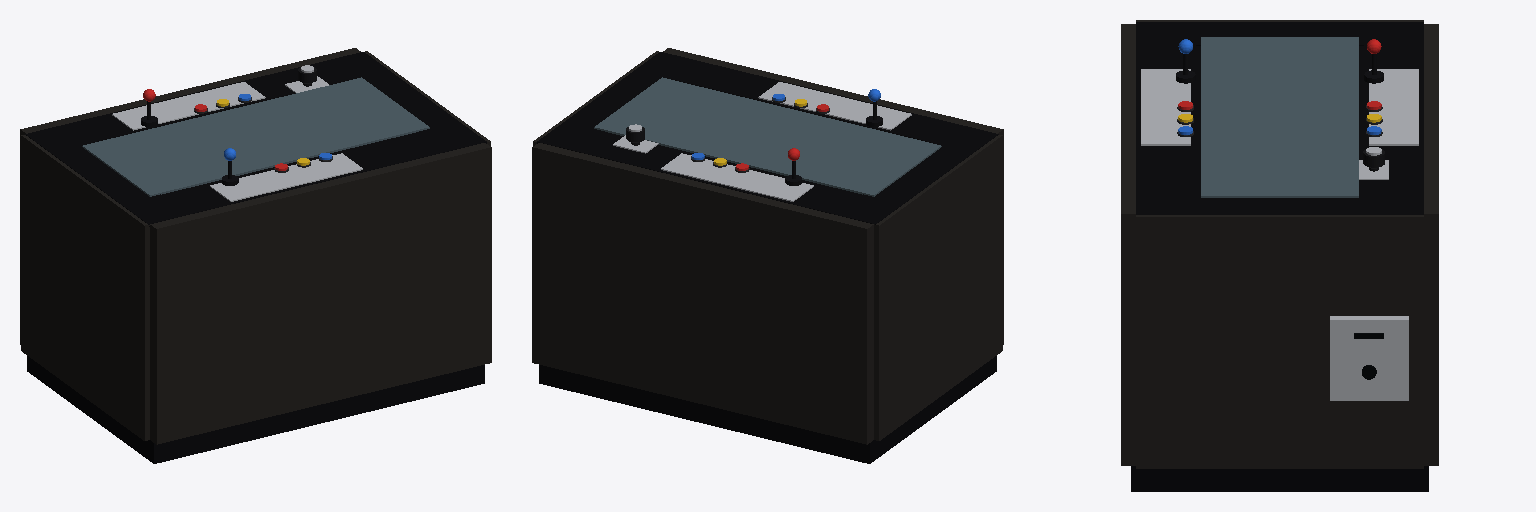
The robot description file, URDF, robot "cocktail_table_arcade_machine":
<robot name="cocktail_table_arcade_machine">
  <material name="cabinet_paint">
    <color rgba="0.17 0.16 0.15 1" />
    </material>
  <material name="black_trim">
    <color rgba="0.07 0.07 0.08 1" />
    </material>
  <material name="smoked_glass">
    <color rgba="0.33 0.39 0.42 0.38" />
    </material>
  <material name="screen_black">
    <color rgba="0.05 0.06 0.07 1" />
    </material>
  <material name="screen_glow">
    <color rgba="0.12 0.53 0.68 1" />
    </material>
  <material name="brushed_metal">
    <color rgba="0.72 0.73 0.75 1" />
    </material>
  <material name="button_red">
    <color rgba="0.78 0.18 0.17 1" />
    </material>
  <material name="button_yellow">
    <color rgba="0.88 0.72 0.15 1" />
    </material>
  <material name="button_blue">
    <color rgba="0.2 0.45 0.83 1" />
    </material>
  <material name="joystick_black">
    <color rgba="0.09 0.09 0.1 1" />
    </material>
  <material name="knob_black">
    <color rgba="0.11 0.11 0.12 1" />
    </material>
  <material name="button_guide">
    <color rgba="0.18 0.18 0.19 1" />
    </material>
  <link name="cabinet">
    <inertial>
      <origin xyz="0 0 0.34" rpy="0 0 0" />
      <mass value="48" />
      <inertia ixx="3.488" ixy="0" ixz="0" iyy="5.384" iyz="0" izz="5.1728" />
      </inertial>
    <visual name="base_plinth">
      <origin xyz="0 0 0.035" rpy="0 0 0" />
      <geometry>
        <box size="0.9 0.6 0.07" />
        </geometry>
      <material name="black_trim">
        <color rgba="0.07 0.07 0.08 1" />
        </material>
      </visual>
    <visual name="left_body_wall">
      <origin xyz="0 0.305 0.34" rpy="0 0 0" />
      <geometry>
        <box size="0.91 0.03 0.56" />
        </geometry>
      <material name="cabinet_paint">
        <color rgba="0.17 0.16 0.15 1" />
        </material>
      </visual>
    <visual name="right_body_wall">
      <origin xyz="0 -0.305 0.34" rpy="0 0 0" />
      <geometry>
        <box size="0.91 0.03 0.56" />
        </geometry>
      <material name="cabinet_paint">
        <color rgba="0.17 0.16 0.15 1" />
        </material>
      </visual>
    <visual name="rear_body_wall">
      <origin xyz="-0.455 0 0.34" rpy="0 0 0" />
      <geometry>
        <box size="0.03 0.58 0.56" />
        </geometry>
      <material name="cabinet_paint">
        <color rgba="0.17 0.16 0.15 1" />
        </material>
      </visual>
    <visual name="front_wall_lower">
      <origin xyz="0.455 0 0.14" rpy="0 0 0" />
      <geometry>
        <box size="0.03 0.58 0.16" />
        </geometry>
      <material name="cabinet_paint">
        <color rgba="0.17 0.16 0.15 1" />
        </material>
      </visual>
    <visual name="front_wall_upper">
      <origin xyz="0.455 0 0.51" rpy="0 0 0" />
      <geometry>
        <box size="0.03 0.58 0.22" />
        </geometry>
      <material name="cabinet_paint">
        <color rgba="0.17 0.16 0.15 1" />
        </material>
      </visual>
    <visual name="front_wall_left_jamb">
      <origin xyz="0.455 -0.095 0.31" rpy="0 0 0" />
      <geometry>
        <box size="0.03 0.39 0.18" />
        </geometry>
      <material name="cabinet_paint">
        <color rgba="0.17 0.16 0.15 1" />
        </material>
      </visual>
    <visual name="front_wall_right_jamb">
      <origin xyz="0.455 0.275 0.31" rpy="0 0 0" />
      <geometry>
        <box size="0.03 0.03 0.18" />
        </geometry>
      <material name="cabinet_paint">
        <color rgba="0.17 0.16 0.15 1" />
        </material>
      </visual>
    <visual name="player_panel_pos">
      <origin xyz="0 0.23 0.608" rpy="0 0 0" />
      <geometry>
        <box size="0.78 0.12 0.026" />
        </geometry>
      <material name="black_trim">
        <color rgba="0.07 0.07 0.08 1" />
        </material>
      </visual>
    <visual name="player_panel_neg">
      <origin xyz="0 -0.23 0.608" rpy="0 0 0" />
      <geometry>
        <box size="0.78 0.12 0.026" />
        </geometry>
      <material name="black_trim">
        <color rgba="0.07 0.07 0.08 1" />
        </material>
      </visual>
    <visual name="front_top_rail">
      <origin xyz="0.405 0 0.608" rpy="0 0 0" />
      <geometry>
        <box size="0.11 0.58 0.026" />
        </geometry>
      <material name="black_trim">
        <color rgba="0.07 0.07 0.08 1" />
        </material>
      </visual>
    <visual name="rear_top_rail">
      <origin xyz="-0.405 0 0.608" rpy="0 0 0" />
      <geometry>
        <box size="0.11 0.58 0.026" />
        </geometry>
      <material name="black_trim">
        <color rgba="0.07 0.07 0.08 1" />
        </material>
      </visual>
    <visual name="screen_well_left">
      <origin xyz="0 0.165 0.54" rpy="0 0 0" />
      <geometry>
        <box size="0.78 0.03 0.12" />
        </geometry>
      <material name="cabinet_paint">
        <color rgba="0.17 0.16 0.15 1" />
        </material>
      </visual>
    <visual name="screen_well_right">
      <origin xyz="0 -0.165 0.54" rpy="0 0 0" />
      <geometry>
        <box size="0.78 0.03 0.12" />
        </geometry>
      <material name="cabinet_paint">
        <color rgba="0.17 0.16 0.15 1" />
        </material>
      </visual>
    <visual name="screen_well_front">
      <origin xyz="0.39 0 0.54" rpy="0 0 0" />
      <geometry>
        <box size="0.03 0.3 0.12" />
        </geometry>
      <material name="cabinet_paint">
        <color rgba="0.17 0.16 0.15 1" />
        </material>
      </visual>
    <visual name="screen_well_rear">
      <origin xyz="-0.39 0 0.54" rpy="0 0 0" />
      <geometry>
        <box size="0.03 0.3 0.12" />
        </geometry>
      <material name="cabinet_paint">
        <color rgba="0.17 0.16 0.15 1" />
        </material>
      </visual>
    <visual name="glass_lip_left">
      <origin xyz="0 0.17 0.609" rpy="0 0 0" />
      <geometry>
        <box size="0.76 0.02 0.022" />
        </geometry>
      <material name="black_trim">
        <color rgba="0.07 0.07 0.08 1" />
        </material>
      </visual>
    <visual name="glass_lip_right">
      <origin xyz="0 -0.17 0.609" rpy="0 0 0" />
      <geometry>
        <box size="0.76 0.02 0.022" />
        </geometry>
      <material name="black_trim">
        <color rgba="0.07 0.07 0.08 1" />
        </material>
      </visual>
    <visual name="glass_lip_front">
      <origin xyz="0.38 0 0.609" rpy="0 0 0" />
      <geometry>
        <box size="0.02 0.32 0.022" />
        </geometry>
      <material name="black_trim">
        <color rgba="0.07 0.07 0.08 1" />
        </material>
      </visual>
    <visual name="glass_lip_rear">
      <origin xyz="-0.38 0 0.609" rpy="0 0 0" />
      <geometry>
        <box size="0.02 0.32 0.022" />
        </geometry>
      <material name="black_trim">
        <color rgba="0.07 0.07 0.08 1" />
        </material>
      </visual>
    <visual name="screen_shelf">
      <origin xyz="0 0 0.495" rpy="0 0 0" />
      <geometry>
        <box size="0.58 0.34 0.03" />
        </geometry>
      <material name="black_trim">
        <color rgba="0.07 0.07 0.08 1" />
        </material>
      </visual>
    <visual name="screen_support_left">
      <origin xyz="0 0.125 0.524" rpy="0 0 0" />
      <geometry>
        <box size="0.5 0.03 0.028" />
        </geometry>
      <material name="black_trim">
        <color rgba="0.07 0.07 0.08 1" />
        </material>
      </visual>
    <visual name="screen_support_right">
      <origin xyz="0 -0.125 0.524" rpy="0 0 0" />
      <geometry>
        <box size="0.5 0.03 0.028" />
        </geometry>
      <material name="black_trim">
        <color rgba="0.07 0.07 0.08 1" />
        </material>
      </visual>
    <visual name="player_one_overlay">
      <origin xyz="-0.05 0.23 0.6225" rpy="0 0 0" />
      <geometry>
        <box size="0.36 0.1 0.003" />
        </geometry>
      <material name="brushed_metal">
        <color rgba="0.72 0.73 0.75 1" />
        </material>
      </visual>
    <visual name="selector_mount_plate">
      <origin xyz="0.25 0.19 0.6225" rpy="0 0 0" />
      <geometry>
        <box size="0.09 0.06 0.003" />
        </geometry>
      <material name="brushed_metal">
        <color rgba="0.72 0.73 0.75 1" />
        </material>
      </visual>
    <visual name="player_one_joystick_collar">
      <origin xyz="-0.18 0.19 0.629" rpy="0 0 0" />
      <geometry>
        <cylinder radius="0.02" length="0.012" />
        </geometry>
      <material name="joystick_black">
        <color rgba="0.09 0.09 0.1 1" />
        </material>
      </visual>
    <visual name="player_one_button_guide_0">
      <origin xyz="-0.04 0.19 0.626" rpy="0 0 0" />
      <geometry>
        <cylinder radius="0.017" length="0.004" />
        </geometry>
      <material name="button_guide">
        <color rgba="0.18 0.18 0.19 1" />
        </material>
      </visual>
    <visual name="player_one_button_guide_1">
      <origin xyz="0.02 0.19 0.626" rpy="0 0 0" />
      <geometry>
        <cylinder radius="0.017" length="0.004" />
        </geometry>
      <material name="button_guide">
        <color rgba="0.18 0.18 0.19 1" />
        </material>
      </visual>
    <visual name="player_one_button_guide_2">
      <origin xyz="0.08 0.19 0.626" rpy="0 0 0" />
      <geometry>
        <cylinder radius="0.017" length="0.004" />
        </geometry>
      <material name="button_guide">
        <color rgba="0.18 0.18 0.19 1" />
        </material>
      </visual>
    <visual name="player_two_overlay">
      <origin xyz="-0.05 -0.23 0.6225" rpy="0 0 0" />
      <geometry>
        <box size="0.36 0.1 0.003" />
        </geometry>
      <material name="brushed_metal">
        <color rgba="0.72 0.73 0.75 1" />
        </material>
      </visual>
    <visual name="player_two_joystick_collar">
      <origin xyz="-0.18 -0.19 0.629" rpy="0 0 0" />
      <geometry>
        <cylinder radius="0.02" length="0.012" />
        </geometry>
      <material name="joystick_black">
        <color rgba="0.09 0.09 0.1 1" />
        </material>
      </visual>
    <visual name="player_two_button_guide_0">
      <origin xyz="-0.04 -0.19 0.626" rpy="0 0 0" />
      <geometry>
        <cylinder radius="0.017" length="0.004" />
        </geometry>
      <material name="button_guide">
        <color rgba="0.18 0.18 0.19 1" />
        </material>
      </visual>
    <visual name="player_two_button_guide_1">
      <origin xyz="0.02 -0.19 0.626" rpy="0 0 0" />
      <geometry>
        <cylinder radius="0.017" length="0.004" />
        </geometry>
      <material name="button_guide">
        <color rgba="0.18 0.18 0.19 1" />
        </material>
      </visual>
    <visual name="player_two_button_guide_2">
      <origin xyz="0.08 -0.19 0.626" rpy="0 0 0" />
      <geometry>
        <cylinder radius="0.017" length="0.004" />
        </geometry>
      <material name="button_guide">
        <color rgba="0.18 0.18 0.19 1" />
        </material>
      </visual>
    </link>
  <link name="glass_top">
    <inertial>
      <mass value="6" />
      <inertia ixx="0.051218" ixy="0" ixz="0" iyy="0.288818" iyz="0" izz="0.34" />
      </inertial>
    <visual name="glass_panel">
      <geometry>
        <box size="0.76 0.32 0.006" />
        </geometry>
      <material name="smoked_glass">
        <color rgba="0.33 0.39 0.42 0.38" />
        </material>
      </visual>
    </link>
  <link name="screen_module">
    <inertial>
      <mass value="9" />
      <inertia ixx="0.059883" ixy="0" ixz="0" iyy="0.219783" iyz="0" izz="0.2775" />
      </inertial>
    <visual name="screen_bezel">
      <geometry>
        <box size="0.54 0.28 0.038" />
        </geometry>
      <material name="screen_black">
        <color rgba="0.05 0.06 0.07 1" />
        </material>
      </visual>
    <visual name="screen_face">
      <origin xyz="0 0 0.0205" rpy="0 0 0" />
      <geometry>
        <box size="0.48 0.22 0.003" />
        </geometry>
      <material name="screen_glow">
        <color rgba="0.12 0.53 0.68 1" />
        </material>
      </visual>
    </link>
  <link name="player_one_joystick">
    <inertial>
      <origin xyz="0 0 0.045" rpy="0 0 0" />
      <mass value="0.08" />
      <inertia ixx="6e-05" ixy="0" ixz="0" iyy="6e-05" iyz="0" izz="1.2e-05" />
      </inertial>
    <visual name="joystick_shaft">
      <origin xyz="0 0 0.035" rpy="0 0 0" />
      <geometry>
        <cylinder radius="0.005" length="0.05" />
        </geometry>
      <material name="joystick_black">
        <color rgba="0.09 0.09 0.1 1" />
        </material>
      </visual>
    <visual name="joystick_ball">
      <origin xyz="0 0 0.073" rpy="0 0 0" />
      <geometry>
        <sphere radius="0.015" />
        </geometry>
      <material name="button_red">
        <color rgba="0.78 0.18 0.17 1" />
        </material>
      </visual>
    </link>
  <link name="player_two_joystick">
    <inertial>
      <origin xyz="0 0 0.045" rpy="0 0 0" />
      <mass value="0.08" />
      <inertia ixx="6e-05" ixy="0" ixz="0" iyy="6e-05" iyz="0" izz="1.2e-05" />
      </inertial>
    <visual name="joystick_shaft">
      <origin xyz="0 0 0.035" rpy="0 0 0" />
      <geometry>
        <cylinder radius="0.005" length="0.05" />
        </geometry>
      <material name="joystick_black">
        <color rgba="0.09 0.09 0.1 1" />
        </material>
      </visual>
    <visual name="joystick_ball">
      <origin xyz="0 0 0.073" rpy="0 0 0" />
      <geometry>
        <sphere radius="0.015" />
        </geometry>
      <material name="button_blue">
        <color rgba="0.2 0.45 0.83 1" />
        </material>
      </visual>
    </link>
  <link name="player_one_button_0">
    <inertial>
      <origin xyz="0 0 0.007" rpy="0 0 0" />
      <mass value="0.03" />
      <inertia ixx="1.7775e-06" ixy="0" ixz="0" iyy="1.7775e-06" iyz="0" izz="3.375e-06" />
      </inertial>
    <visual name="button_cap">
      <origin xyz="0 0 0.007" rpy="0 0 0" />
      <geometry>
        <cylinder radius="0.015" length="0.006" />
        </geometry>
      <material name="button_red">
        <color rgba="0.78 0.18 0.17 1" />
        </material>
      </visual>
    </link>
  <link name="player_one_button_1">
    <inertial>
      <origin xyz="0 0 0.007" rpy="0 0 0" />
      <mass value="0.03" />
      <inertia ixx="1.7775e-06" ixy="0" ixz="0" iyy="1.7775e-06" iyz="0" izz="3.375e-06" />
      </inertial>
    <visual name="button_cap">
      <origin xyz="0 0 0.007" rpy="0 0 0" />
      <geometry>
        <cylinder radius="0.015" length="0.006" />
        </geometry>
      <material name="button_yellow">
        <color rgba="0.88 0.72 0.15 1" />
        </material>
      </visual>
    </link>
  <link name="player_one_button_2">
    <inertial>
      <origin xyz="0 0 0.007" rpy="0 0 0" />
      <mass value="0.03" />
      <inertia ixx="1.7775e-06" ixy="0" ixz="0" iyy="1.7775e-06" iyz="0" izz="3.375e-06" />
      </inertial>
    <visual name="button_cap">
      <origin xyz="0 0 0.007" rpy="0 0 0" />
      <geometry>
        <cylinder radius="0.015" length="0.006" />
        </geometry>
      <material name="button_blue">
        <color rgba="0.2 0.45 0.83 1" />
        </material>
      </visual>
    </link>
  <link name="player_two_button_0">
    <inertial>
      <origin xyz="0 0 0.007" rpy="0 0 0" />
      <mass value="0.03" />
      <inertia ixx="1.7775e-06" ixy="0" ixz="0" iyy="1.7775e-06" iyz="0" izz="3.375e-06" />
      </inertial>
    <visual name="button_cap">
      <origin xyz="0 0 0.007" rpy="0 0 0" />
      <geometry>
        <cylinder radius="0.015" length="0.006" />
        </geometry>
      <material name="button_red">
        <color rgba="0.78 0.18 0.17 1" />
        </material>
      </visual>
    </link>
  <link name="player_two_button_1">
    <inertial>
      <origin xyz="0 0 0.007" rpy="0 0 0" />
      <mass value="0.03" />
      <inertia ixx="1.7775e-06" ixy="0" ixz="0" iyy="1.7775e-06" iyz="0" izz="3.375e-06" />
      </inertial>
    <visual name="button_cap">
      <origin xyz="0 0 0.007" rpy="0 0 0" />
      <geometry>
        <cylinder radius="0.015" length="0.006" />
        </geometry>
      <material name="button_yellow">
        <color rgba="0.88 0.72 0.15 1" />
        </material>
      </visual>
    </link>
  <link name="player_two_button_2">
    <inertial>
      <origin xyz="0 0 0.007" rpy="0 0 0" />
      <mass value="0.03" />
      <inertia ixx="1.7775e-06" ixy="0" ixz="0" iyy="1.7775e-06" iyz="0" izz="3.375e-06" />
      </inertial>
    <visual name="button_cap">
      <origin xyz="0 0 0.007" rpy="0 0 0" />
      <geometry>
        <cylinder radius="0.015" length="0.006" />
        </geometry>
      <material name="button_blue">
        <color rgba="0.2 0.45 0.83 1" />
        </material>
      </visual>
    </link>
  <link name="coin_door">
    <inertial>
      <origin xyz="0.009 0 -0.09" rpy="0 0 0" />
      <mass value="1.2" />
      <inertia ixx="0.0058" ixy="0" ixz="0" iyy="0.0032724" iyz="0" izz="0.0025924" />
      </inertial>
    <visual name="coin_door_panel">
      <origin xyz="0.009 0 -0.09" rpy="0 0 0" />
      <geometry>
        <box size="0.018 0.16 0.18" />
        </geometry>
      <material name="brushed_metal">
        <color rgba="0.72 0.73 0.75 1" />
        </material>
      </visual>
    <visual name="coin_slot">
      <origin xyz="0.02 0 -0.035" rpy="0 0 0" />
      <geometry>
        <box size="0.004 0.06 0.012" />
        </geometry>
      <material name="screen_black">
        <color rgba="0.05 0.06 0.07 1" />
        </material>
      </visual>
    <visual name="coin_return_pull">
      <origin xyz="0.02 0 -0.115" rpy="0 1.5708 0" />
      <geometry>
        <cylinder radius="0.015" length="0.01" />
        </geometry>
      <material name="screen_black">
        <color rgba="0.05 0.06 0.07 1" />
        </material>
      </visual>
    </link>
  <link name="selector_knob">
    <inertial>
      <origin xyz="0 0 0.0225" rpy="0 0 0" />
      <mass value="0.18" />
      <inertia ixx="5.9415e-05" ixy="0" ixz="0" iyy="5.9415e-05" iyz="0" izz="5.808e-05" />
      </inertial>
    <visual name="selector_collar">
      <origin xyz="0 0 0.003" rpy="0 0 0" />
      <geometry>
        <cylinder radius="0.01" length="0.006" />
        </geometry>
      <material name="knob_black">
        <color rgba="0.11 0.11 0.12 1" />
        </material>
      </visual>
    <visual name="selector_shaft">
      <origin xyz="0 0 0.01" rpy="0 0 0" />
      <geometry>
        <cylinder radius="0.004" length="0.018" />
        </geometry>
      <material name="brushed_metal">
        <color rgba="0.72 0.73 0.75 1" />
        </material>
      </visual>
    <visual name="selector_body">
      <origin xyz="0 0 0.026" rpy="0 0 0" />
      <geometry>
        <cylinder radius="0.022" length="0.024" />
        </geometry>
      <material name="knob_black">
        <color rgba="0.11 0.11 0.12 1" />
        </material>
      </visual>
    <visual name="selector_cap">
      <origin xyz="0 0 0.0405" rpy="0 0 0" />
      <geometry>
        <cylinder radius="0.016" length="0.005" />
        </geometry>
      <material name="brushed_metal">
        <color rgba="0.72 0.73 0.75 1" />
        </material>
      </visual>
    </link>
  <joint name="cabinet_to_glass_top" type="fixed">
    <origin xyz="0 0 0.622" rpy="0 0 0" />
    <parent link="cabinet" />
    <child link="glass_top" />
    </joint>
  <joint name="cabinet_to_screen_module" type="fixed">
    <origin xyz="0 0 0.557" rpy="0 0 0" />
    <parent link="cabinet" />
    <child link="screen_module" />
    </joint>
  <joint name="cabinet_to_player_one_joystick" type="revolute">
    <origin xyz="-0.18 0.19 0.624" rpy="0 0 0" />
    <parent link="cabinet" />
    <child link="player_one_joystick" />
    <axis xyz="1 0 0" />
    <limit effort="0.6" velocity="2.5" lower="-0.35" upper="0.35" />
    </joint>
  <joint name="cabinet_to_player_two_joystick" type="revolute">
    <origin xyz="-0.18 -0.19 0.624" rpy="0 0 0" />
    <parent link="cabinet" />
    <child link="player_two_joystick" />
    <axis xyz="1 0 0" />
    <limit effort="0.6" velocity="2.5" lower="-0.35" upper="0.35" />
    </joint>
  <joint name="cabinet_to_player_one_button_0" type="prismatic">
    <origin xyz="-0.04 0.19 0.624" rpy="0 0 0" />
    <parent link="cabinet" />
    <child link="player_one_button_0" />
    <axis xyz="0 0 -1" />
    <limit effort="0.5" velocity="0.1" lower="0" upper="0.003" />
    </joint>
  <joint name="cabinet_to_player_one_button_1" type="prismatic">
    <origin xyz="0.02 0.19 0.624" rpy="0 0 0" />
    <parent link="cabinet" />
    <child link="player_one_button_1" />
    <axis xyz="0 0 -1" />
    <limit effort="0.5" velocity="0.1" lower="0" upper="0.003" />
    </joint>
  <joint name="cabinet_to_player_one_button_2" type="prismatic">
    <origin xyz="0.08 0.19 0.624" rpy="0 0 0" />
    <parent link="cabinet" />
    <child link="player_one_button_2" />
    <axis xyz="0 0 -1" />
    <limit effort="0.5" velocity="0.1" lower="0" upper="0.003" />
    </joint>
  <joint name="cabinet_to_player_two_button_0" type="prismatic">
    <origin xyz="-0.04 -0.19 0.624" rpy="0 0 0" />
    <parent link="cabinet" />
    <child link="player_two_button_0" />
    <axis xyz="0 0 -1" />
    <limit effort="0.5" velocity="0.1" lower="0" upper="0.003" />
    </joint>
  <joint name="cabinet_to_player_two_button_1" type="prismatic">
    <origin xyz="0.02 -0.19 0.624" rpy="0 0 0" />
    <parent link="cabinet" />
    <child link="player_two_button_1" />
    <axis xyz="0 0 -1" />
    <limit effort="0.5" velocity="0.1" lower="0" upper="0.003" />
    </joint>
  <joint name="cabinet_to_player_two_button_2" type="prismatic">
    <origin xyz="0.08 -0.19 0.624" rpy="0 0 0" />
    <parent link="cabinet" />
    <child link="player_two_button_2" />
    <axis xyz="0 0 -1" />
    <limit effort="0.5" velocity="0.1" lower="0" upper="0.003" />
    </joint>
  <joint name="cabinet_to_coin_door" type="revolute">
    <origin xyz="0.47 0.18 0.4" rpy="0 0 0" />
    <parent link="cabinet" />
    <child link="coin_door" />
    <axis xyz="0 -1 0" />
    <limit effort="8" velocity="2.5" lower="0" upper="1.45" />
    </joint>
  <joint name="cabinet_to_selector_knob" type="continuous">
    <origin xyz="0.25 0.19 0.624" rpy="0 0 0" />
    <parent link="cabinet" />
    <child link="selector_knob" />
    <axis xyz="0 0 1" />
    <limit effort="0.3" velocity="10" />
    </joint>
  </robot>

--- What the picture shows (computed from the rendered views, not written in the file) ---
Views: 3 orthographic renders of the robot side by side, from view 1: azimuth 30°, elevation 25°; view 2: azimuth 150°, elevation 25°; view 3: azimuth 270°, elevation 25°.
Model cocktail_table_arcade_machine with 13 links and 12 joints (3 revolute, 1 continuous, 6 prismatic, 2 fixed), rooted at cabinet, posed every joint at zero.
Visible links, largest first — view 1: cabinet, glass_top; view 2: cabinet, glass_top; view 3: cabinet, glass_top, coin_door.
Boxes of the visible links, x1,y1,x2,y2 form: cabinet: (20, 48, 491, 463); glass_top: (82, 77, 429, 196); cabinet: (532, 48, 1003, 463); glass_top: (594, 77, 941, 196); cabinet: (1121, 20, 1438, 491); glass_top: (1201, 37, 1358, 197); coin_door: (1330, 316, 1408, 400).
Bounding box of the posed robot: 0.965 × 0.64 × 0.712 m (x, y, z).
Geometry: primitives only (box / cylinder / sphere), no mesh files.
